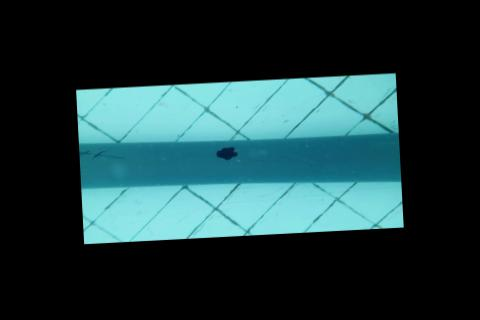kebocoran: (213, 144, 239, 161)
keretakan: (79, 146, 127, 161)
